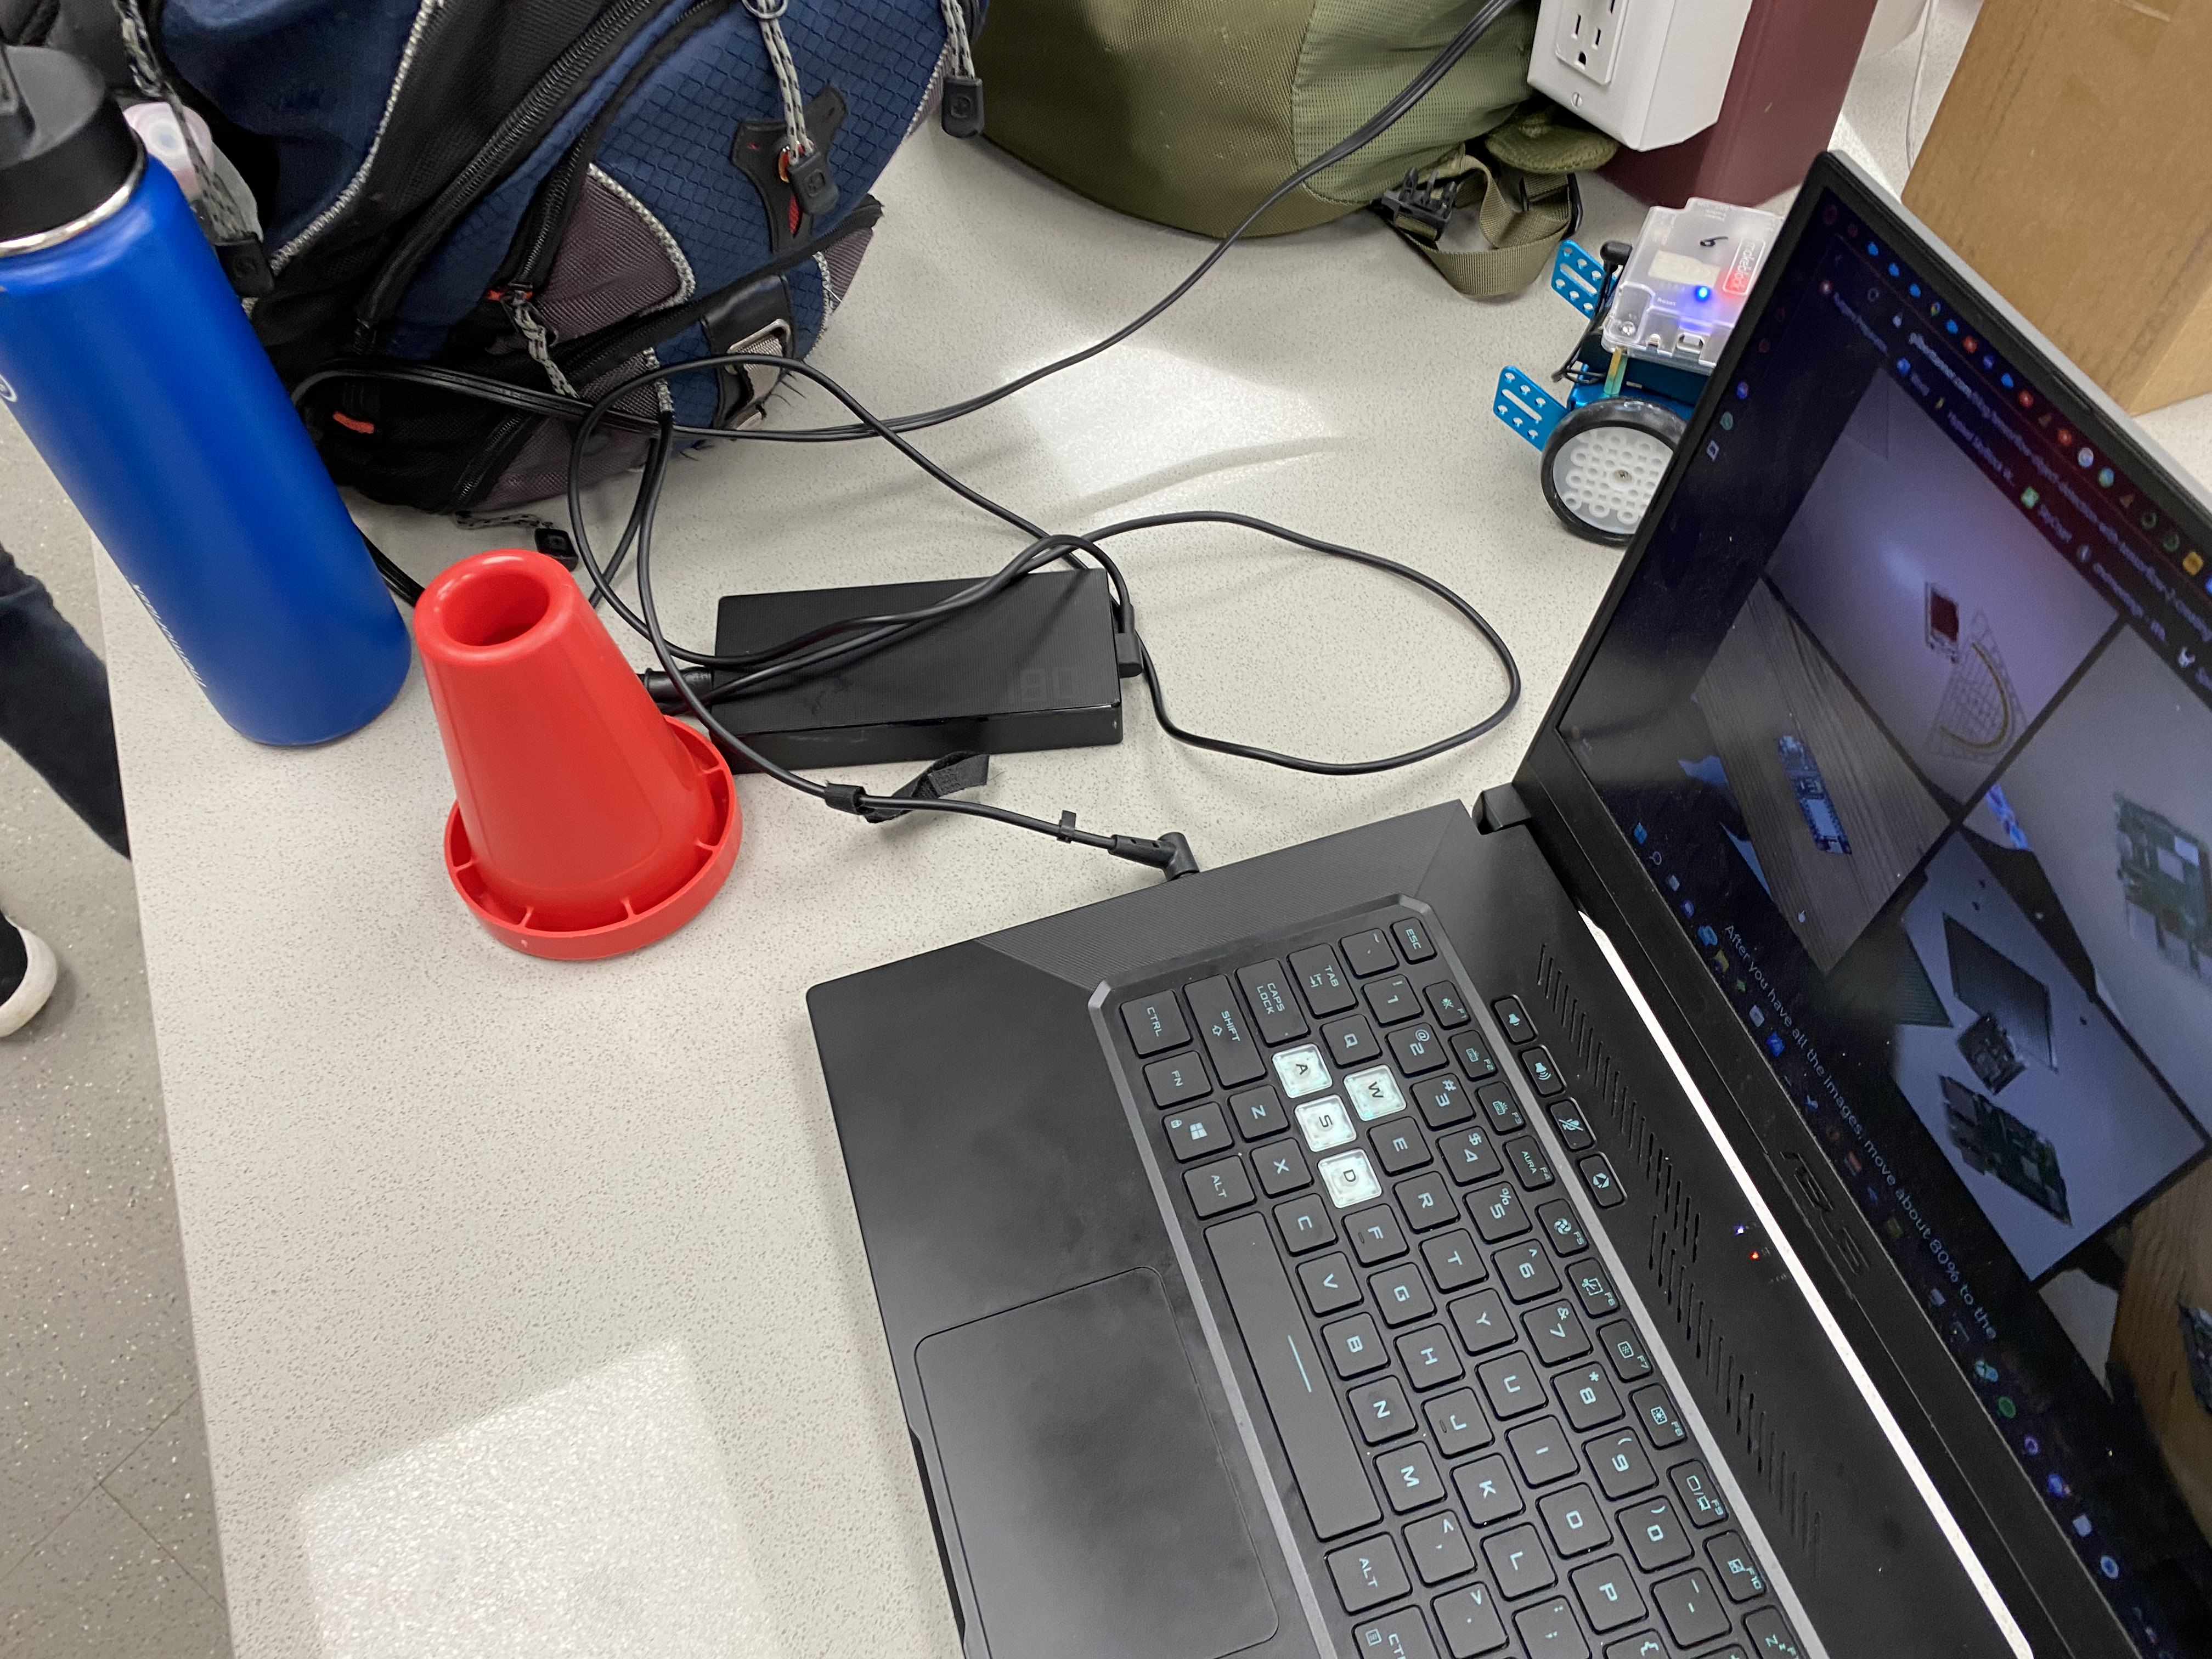redCone: (406, 538, 751, 971)
